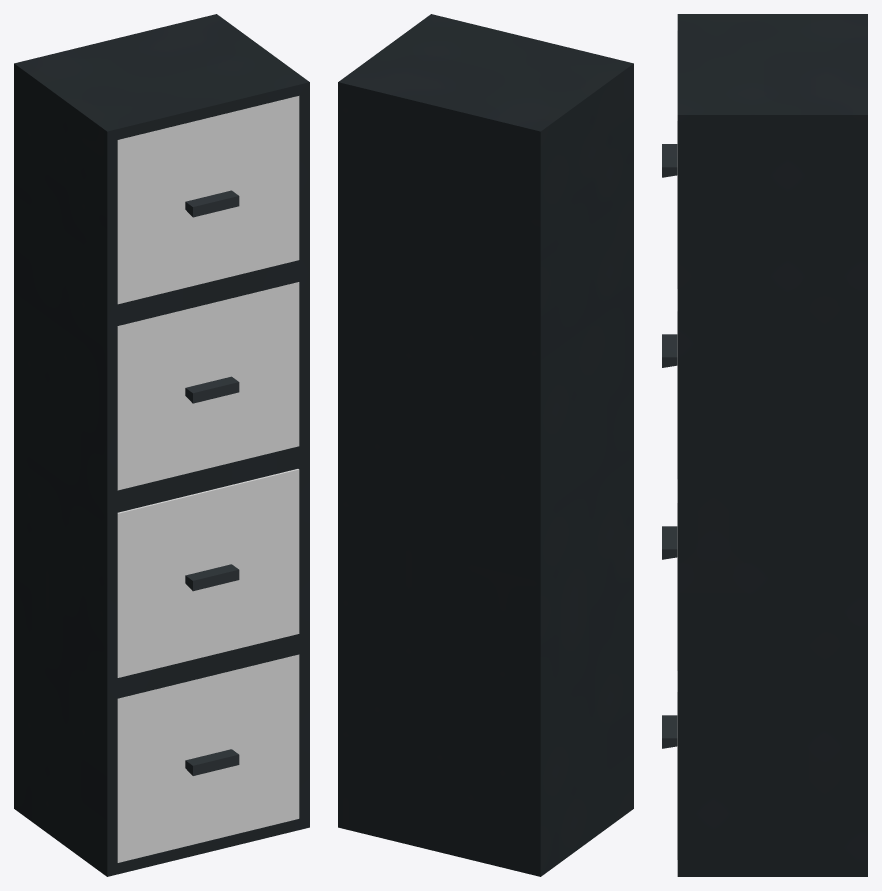
File: Closet_03_03.fbx
3 renders of one model, left to right at view 1: azimuth 30°, elevation 25°; view 2: azimuth 150°, elevation 25°; view 3: azimuth 270°, elevation 25°, orthographic. The views are drawn at different scales.
Visible parts, largest first — view 1: Closet_03_03, Closet_03_Container.003, Closet_03_Container.008, Closet_03_Container.002, Closet_03_Container.001; view 2: Closet_03_03; view 3: Closet_03_03, Closet_03_Container.001, Closet_03_Container.002, Closet_03_Container.003, Closet_03_Container.008.
Part boxes in pixels (bbox=[...]): Closet_03_03: bbox=[14, 14, 309, 876]; Closet_03_Container.003: bbox=[117, 469, 299, 677]; Closet_03_Container.008: bbox=[117, 654, 299, 862]; Closet_03_Container.002: bbox=[117, 282, 299, 490]; Closet_03_Container.001: bbox=[117, 96, 299, 304]; Closet_03_03: bbox=[338, 14, 633, 876]; Closet_03_03: bbox=[677, 14, 867, 876]; Closet_03_Container.001: bbox=[662, 31, 677, 288]; Closet_03_Container.002: bbox=[662, 289, 677, 478]; Closet_03_Container.003: bbox=[662, 479, 677, 670]; Closet_03_Container.008: bbox=[662, 671, 677, 859].
Size of the model in its own units: 0.4966 by 1.75 by 0.4271.
